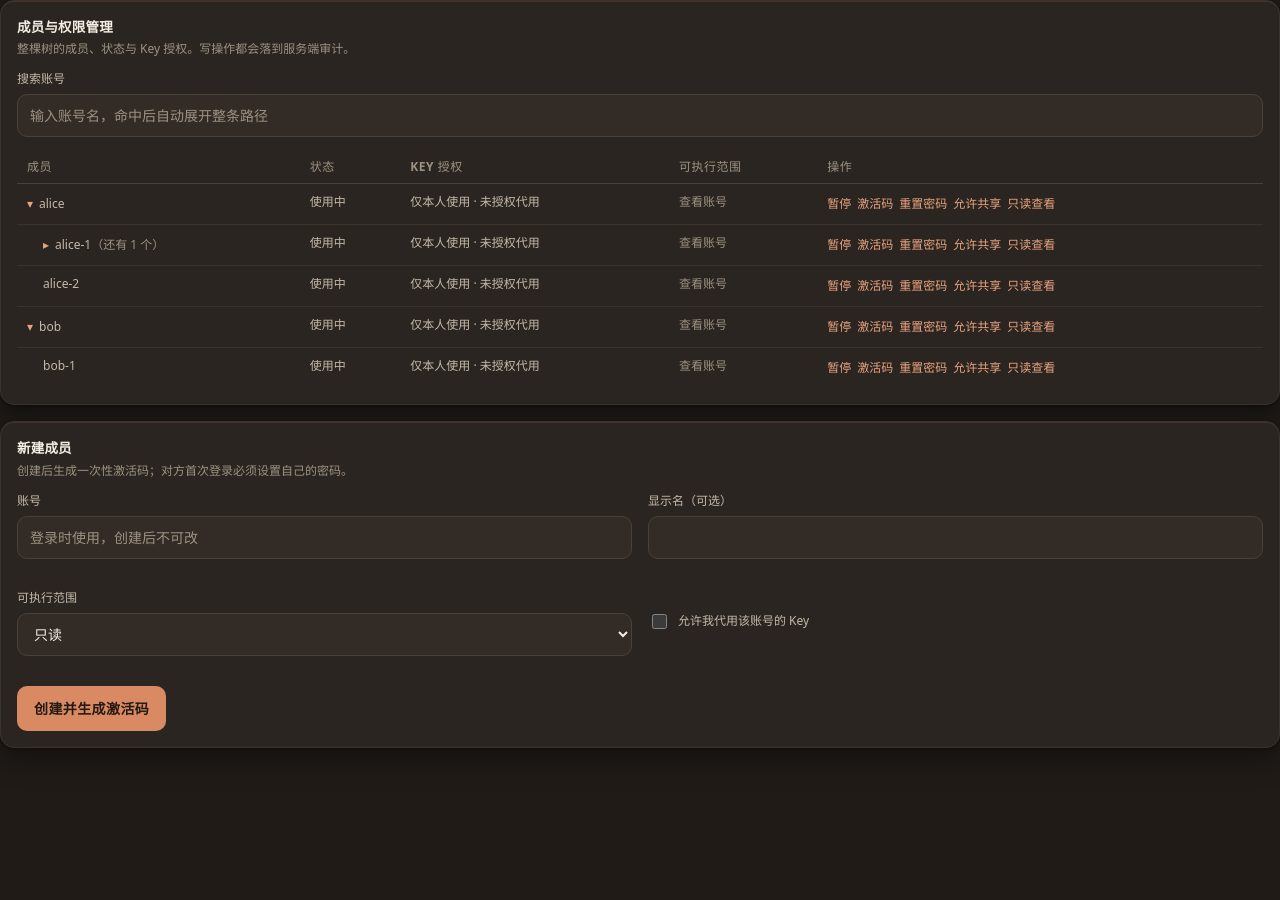
Scenario: 成员页根视图：层级树折叠 › 搜索无命中时给中性说明，而不是一张没有任何解释的空表
Expected: the number of column headings is 5, [17,151,300,184]; [300,151,400,184]; [400,151,669,184]; [669,151,817,184]; [817,151,1263,184]
In the search field labelled "搜索账号": (640, 116) [17,94,1263,137], type "zzz"
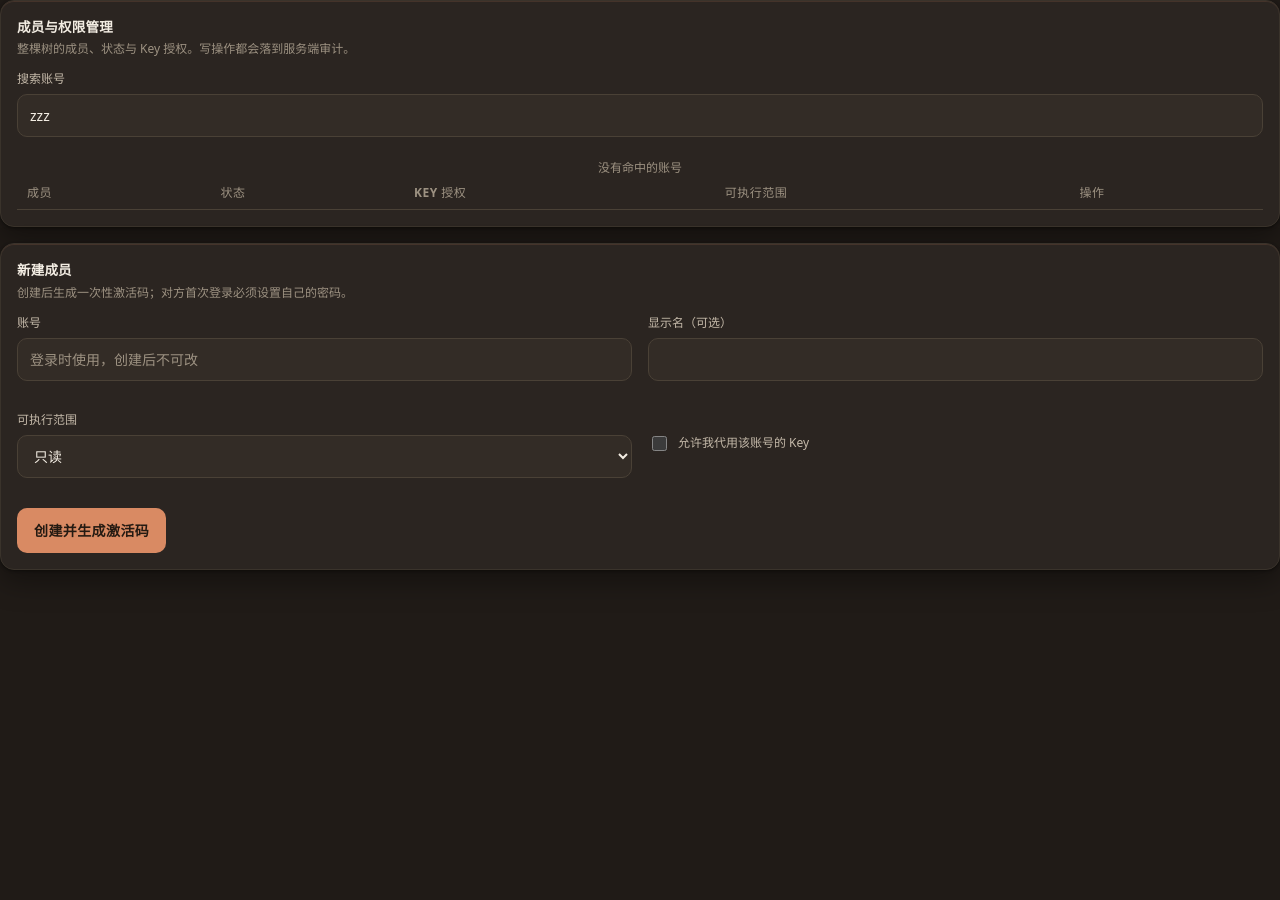
Expected: the text "没有命中的账号" is shown, [598,159,682,176]
